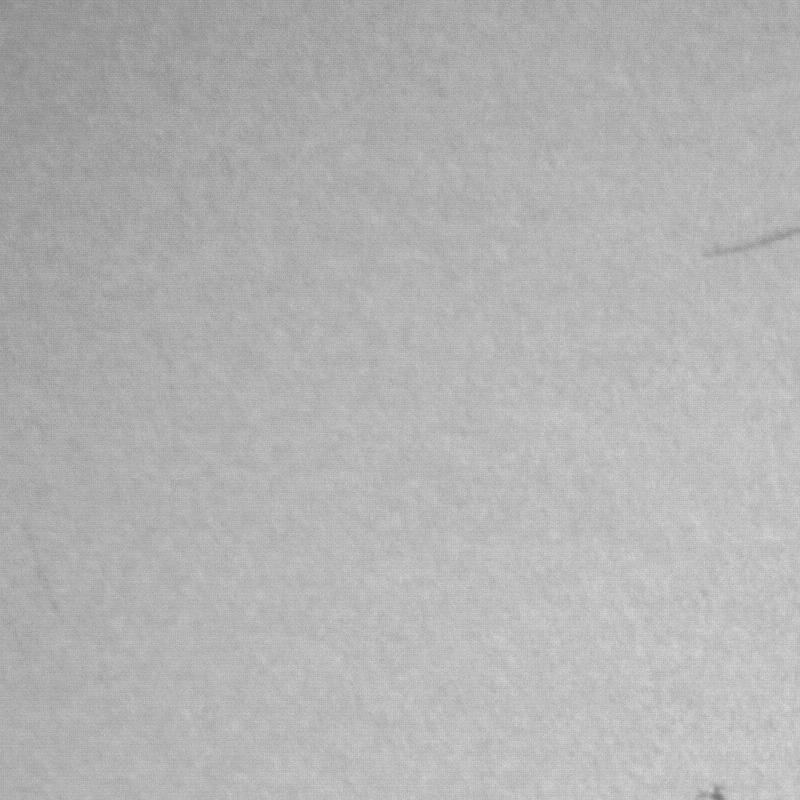defect: (4, 505, 63, 613), (716, 225, 800, 254), (697, 780, 728, 800)
